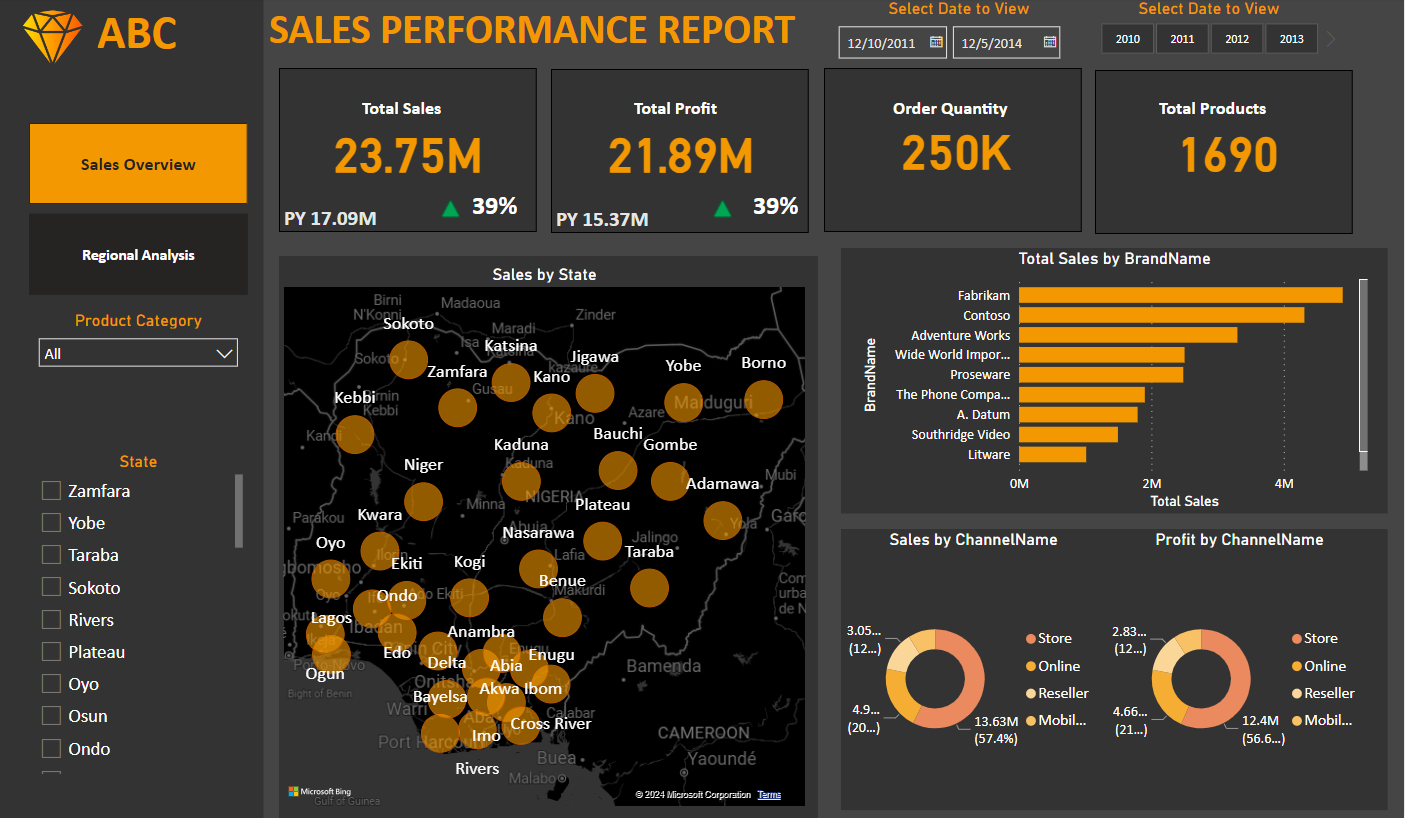

What the dashboard file says about the page in this screenshot:
{"tool":"powerbi","page":{"name":"Sales Overview","canvas":[1440,840],"ordinal":0},"visuals":[{"type":"shape","box":[0,-24,272,864],"z":0},{"type":"image","box":[0,0,112,80],"z":1000},{"type":"textbox","box":[272,0,560,64],"z":2000},{"type":"textbox","box":[96,0,112,80],"z":3000},{"type":"shape","box":[288,72,264,168],"z":4000},{"type":"card","fields":{"Values":["Measures_.Total Sales"]},"box":[288,72,264,168],"z":5000},{"type":"textbox","box":[368,96,112,48],"z":6000},{"type":"textbox","box":[480,192,96,48],"z":7000},{"type":"image","box":[448,176,32,80],"z":8000},{"type":"textbox","box":[288,208,128,48],"z":9000},{"type":"shape","box":[566.6,72.6,264,168],"z":10000},{"type":"card","fields":{"Values":["Measures_.Total Profit"]},"box":[563.2,67.4,272,176],"z":11000},{"type":"textbox","box":[646.6,96.6,112,48],"z":12000},{"type":"textbox","box":[768,192,96,48],"z":13000},{"type":"image","box":[726.6,176.6,32,80],"z":14000},{"type":"textbox","box":[566.6,208.6,128,48],"z":15000},{"type":"shape","box":[846,71.5,264,168],"z":16000},{"type":"card","fields":{"Values":["Sum(Sales_Data.Order Qty)"]},"box":[845.3,73.1,272,160],"z":17000},{"type":"textbox","box":[912,96,144,48],"z":18000},{"type":"shape","box":[1124.3,73.5,264,168],"z":19000},{"type":"card","fields":{"Values":["Count(Sales_Product.ProductName)"]},"box":[1123.6,75,272,160],"z":20000},{"type":"textbox","box":[1184,96,144,48],"z":21000},{"type":"shape","box":[288,256,560,272],"z":22000},{"type":"shape","box":[288,544,560,288],"z":23000},{"type":"shape","box":[864,544,560,288],"z":24000},{"type":"shape","box":[864,256,560,272],"z":25000},{"type":"lineChart","fields":{"Y":["Measures_.Total Sales"],"Category":["Sales_Product.ProductName"]},"box":[304,272,528,240],"z":26000},{"type":"clusteredColumnChart","fields":{"Y":["Measures_.Total Sales"],"Category":["Sales_Product.BrandName"]},"box":[880,272,496,240],"z":27000},{"type":"tableEx","title":"Top 10 Products","fields":{"Values":["Sales_Product.ProductName","Sum(Sales_Data.Order Qty)","Measures_.Total Sales"]},"box":[304,544,544,288],"z":28000},{"type":"clusteredBarChart","fields":{"Category":["Sales_Product.BrandName"],"Y":["Measures_.Total Profit"]},"box":[864,544,256,288],"z":29000},{"type":"clusteredBarChart","title":"Total Sales by ProductName","fields":{"Y":["Measures_.Total Sales"],"Category":["Sales_Product.ProductName"]},"box":[1136,544,256,288],"z":30000},{"type":"slicer","title":"Select Date to View","fields":{"Values":["Sales_Data.Order Date"]},"box":[848,0,272,64],"z":31000},{"type":"slicer","title":"Select Date to View","fields":{"Values":["Dates.Year"]},"box":[1104,0,272,64],"z":32000},{"type":"slicer","title":"Product Category","fields":{"Values":["Sales_Product_Sub_Cat.Product Category"]},"box":[32,336,224,128],"z":33000},{"type":"slicer","title":"State","fields":{"Values":["Sales_State.State"]},"box":[32,480,224,336],"z":34000},{"type":"pageNavigator","box":[32,128,224,176],"z":35000}]}

Visuals, with their boxes in screenshot pixels (x1, y1, x2, y2), scaled from the page's 1440x840 canvas onto the 1405x818 screenshot:
shape: box(0, 0, 265, 817)
image: box(0, 0, 109, 78)
textbox: box(265, 0, 812, 62)
textbox: box(94, 0, 203, 78)
shape: box(281, 70, 539, 234)
card - Measures_.Total Sales: box(281, 70, 539, 234)
textbox: box(359, 93, 468, 140)
textbox: box(468, 187, 562, 234)
image: box(437, 171, 468, 249)
textbox: box(281, 203, 406, 249)
shape: box(553, 71, 810, 234)
card - Measures_.Total Profit: box(550, 66, 815, 237)
textbox: box(631, 94, 740, 141)
textbox: box(749, 187, 843, 234)
image: box(709, 172, 740, 250)
textbox: box(553, 203, 678, 250)
shape: box(825, 70, 1083, 233)
card - Sum(Sales_Data.Order Qty): box(825, 71, 1090, 227)
textbox: box(890, 93, 1030, 140)
shape: box(1097, 72, 1355, 235)
card - Count(Sales_Product.ProductName): box(1096, 73, 1362, 229)
textbox: box(1155, 93, 1296, 140)
shape: box(281, 249, 827, 514)
shape: box(281, 530, 827, 810)
shape: box(843, 530, 1389, 810)
shape: box(843, 249, 1389, 514)
lineChart - Measures_.Total Sales x Sales_Product.ProductName: box(297, 265, 812, 499)
clusteredColumnChart - Measures_.Total Sales x Sales_Product.BrandName: box(859, 265, 1343, 499)
"Top 10 Products" tableEx: box(297, 530, 827, 810)
clusteredBarChart - Sales_Product.BrandName x Measures_.Total Profit: box(843, 530, 1093, 810)
"Total Sales by ProductName" clusteredBarChart: box(1108, 530, 1358, 810)
"Select Date to View" slicer: box(827, 0, 1093, 62)
"Select Date to View" slicer: box(1077, 0, 1343, 62)
"Product Category" slicer: box(31, 327, 250, 452)
"State" slicer: box(31, 467, 250, 795)
pageNavigator: box(31, 125, 250, 296)
